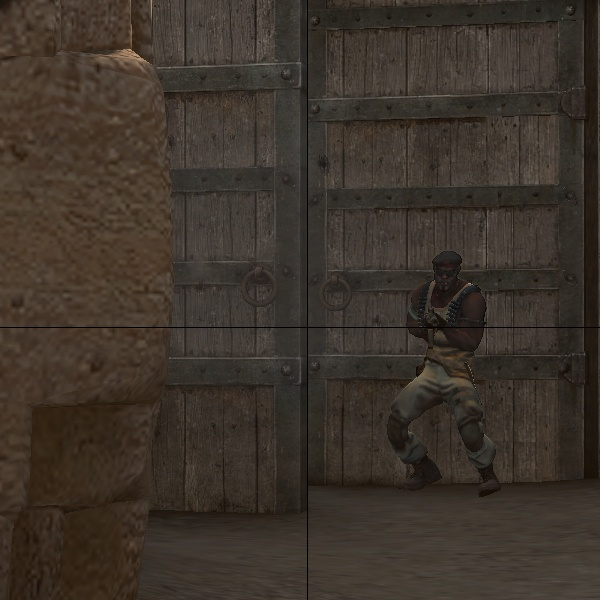t_body: (392, 251, 496, 492)
t_head: (430, 251, 463, 291)
